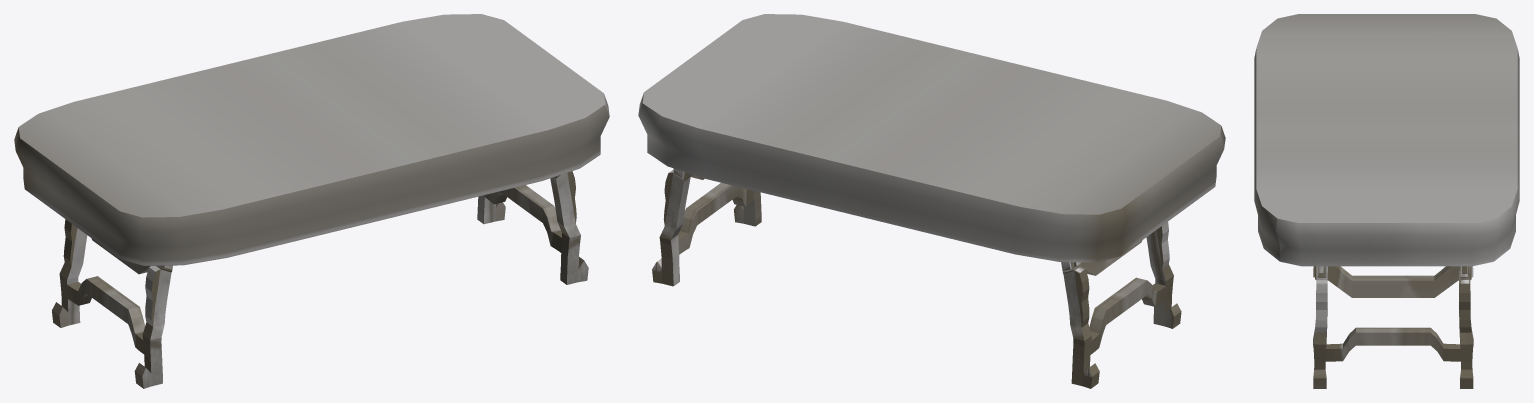
The model's file is Bar_2F_Table.fbx.
The picture shows the model from 3 angles, left to right: view 1: azimuth 30°, elevation 25°; view 2: azimuth 150°, elevation 25°; view 3: azimuth 270°, elevation 25°; orthographic projection. The views are drawn at different scales.
Parts seen in each view (by area): view 1: Cylinder.119; view 2: Cylinder.119; view 3: Cylinder.119.
Boxes of the visible parts, x1,y1,x2,y2 form: Cylinder.119: (14, 14, 609, 388); Cylinder.119: (638, 14, 1225, 388); Cylinder.119: (1254, 14, 1519, 388).
Size of the model in its own units: 225 by 83.62 by 119.
